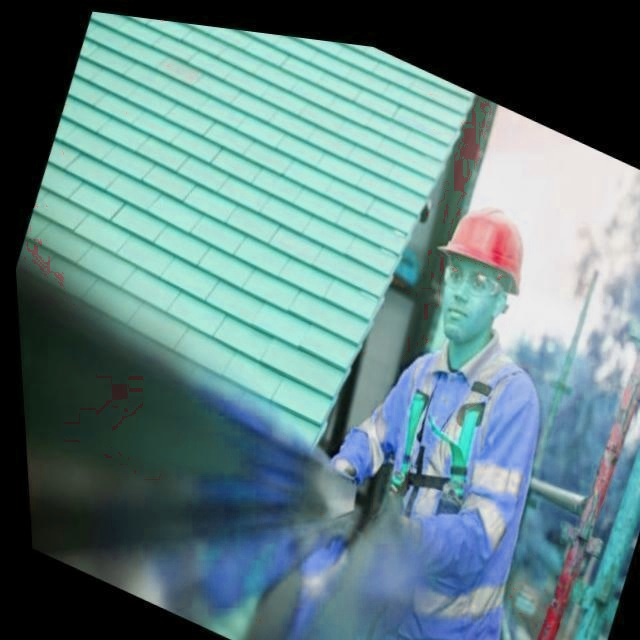safety belt: (372, 391, 510, 603)
